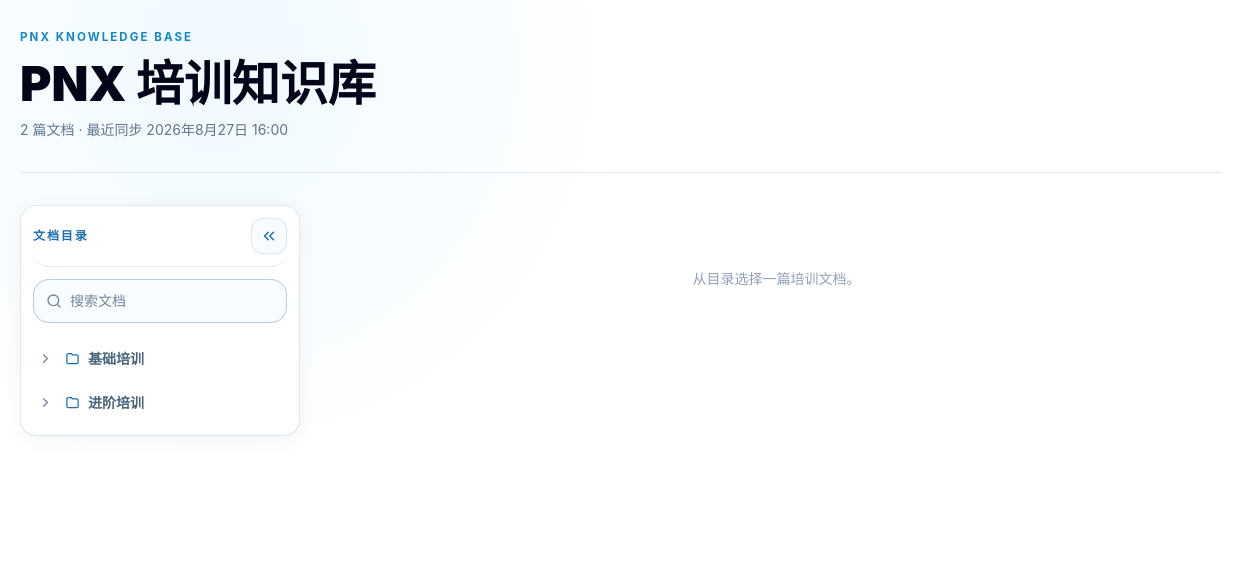
Test: knowledge reader › shows only root entries by default and exposes protected files after expansion
Expected: the button named "展开进阶培训" is shown, left=33, top=391, right=57, bottom=415
Expected: the text "培训手册.pdf" is not shown
Step 1. Click the button named "展开基础培训" → [45, 359], box left=33, top=347, right=57, bottom=371
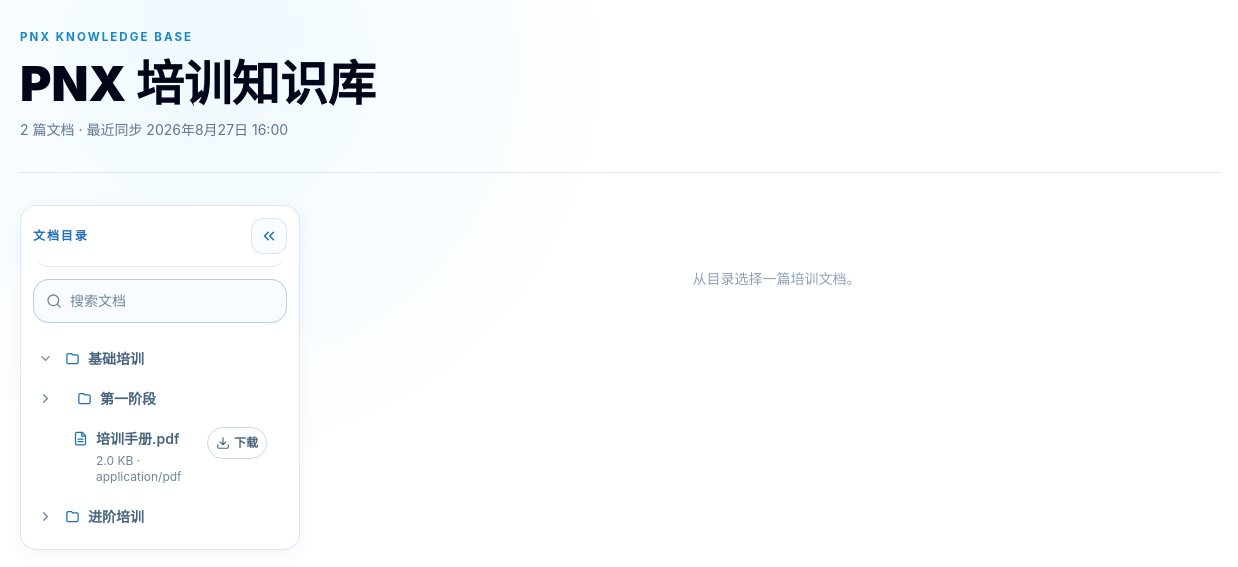
Expected: the button named "展开第一阶段" is shown, left=33, top=387, right=57, bottom=411
Expected: the text "2.0 KB · application/pdf" is shown, left=96, top=453, right=182, bottom=484
